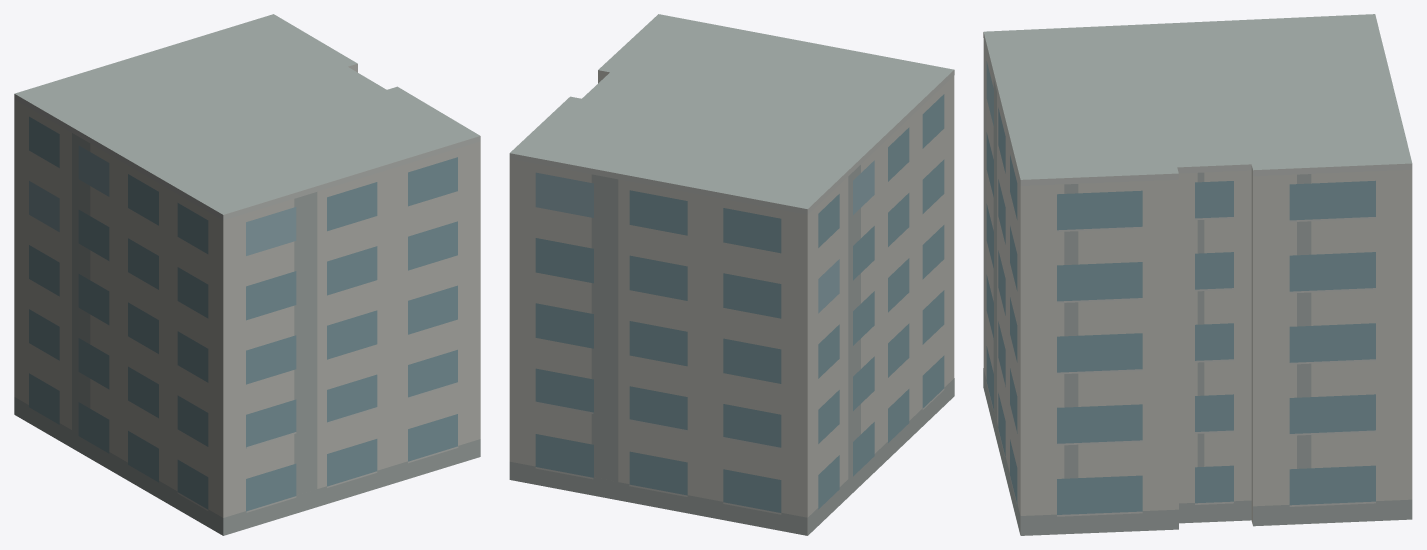
Rendered from survey-upis-32977255.glb.
The picture shows the model from 3 angles, left to right: view 1: azimuth 30°, elevation 25°; view 2: azimuth 150°, elevation 25°; view 3: azimuth 270°, elevation 25°; orthographic projection. The views are drawn at different scales.
Visible parts, largest first — view 1: survey-upis-32977255.tmp; view 2: survey-upis-32977255.tmp; view 3: survey-upis-32977255.tmp.
Boxes of the visible parts, x1,y1,x2,y2 form: survey-upis-32977255.tmp: (14,14,480,535); survey-upis-32977255.tmp: (509,14,954,535); survey-upis-32977255.tmp: (983,14,1412,535).
Bounding box in the file's own units: 13.8 × 13.8 × 15.08.
